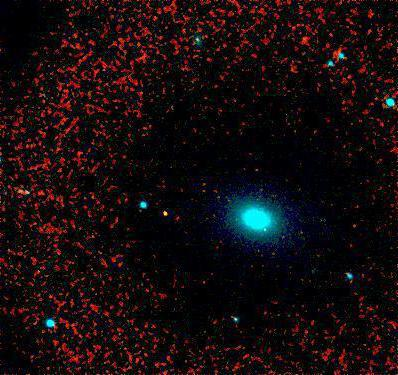star: (149, 198, 179, 228)
